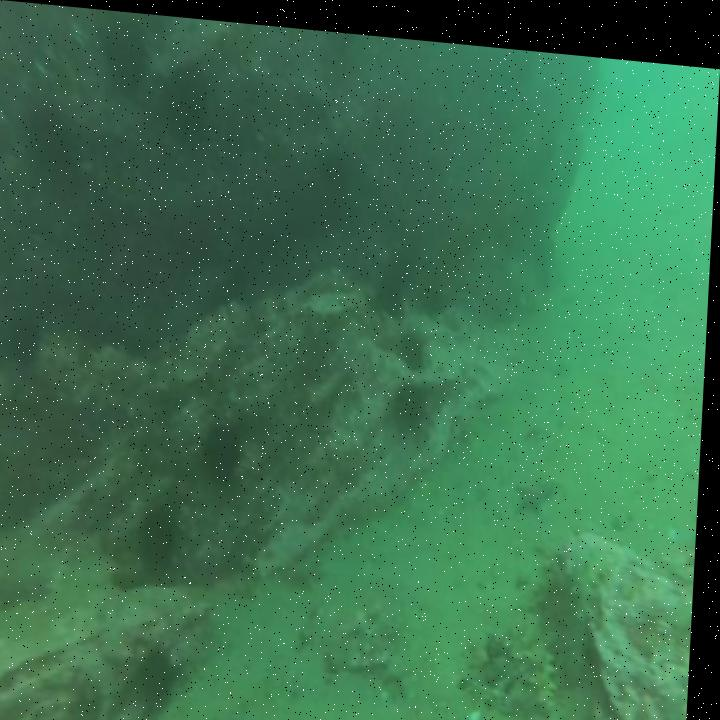echinus: (131, 486, 189, 588), (100, 17, 158, 108), (164, 52, 219, 145), (136, 629, 189, 716), (203, 410, 254, 491), (396, 364, 434, 432)
holothurian: (574, 534, 622, 682)
starfish: (517, 455, 559, 509)
